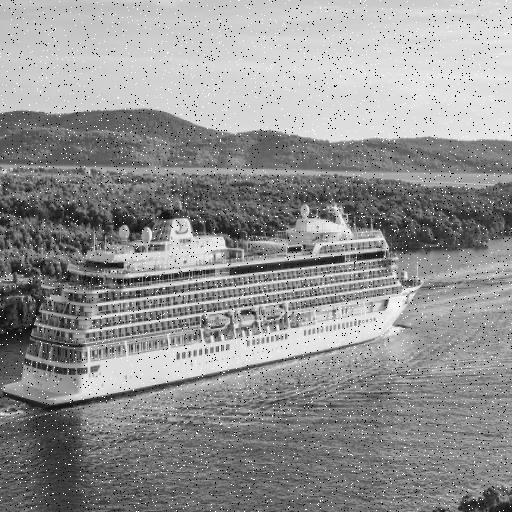cruises: (1, 195, 424, 415)
